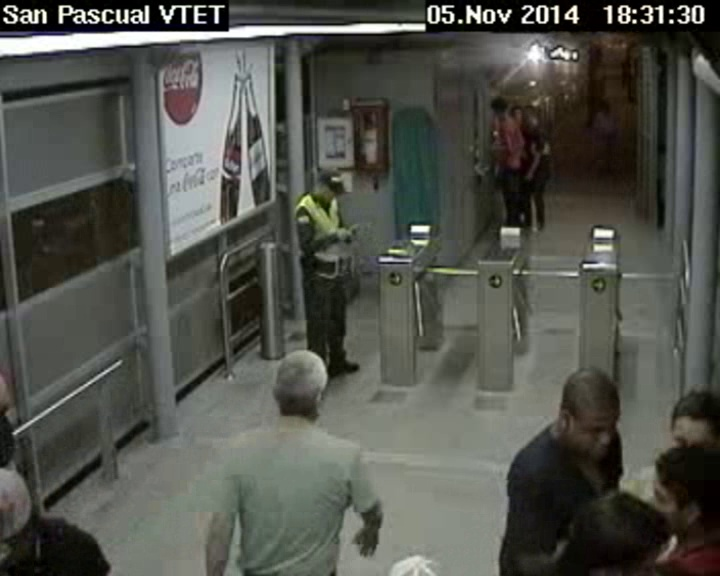person: (551, 483, 677, 576), (639, 441, 720, 538), (561, 365, 623, 460), (264, 341, 331, 428), (665, 381, 720, 460), (314, 171, 343, 202), (489, 94, 508, 118), (510, 103, 524, 124)
